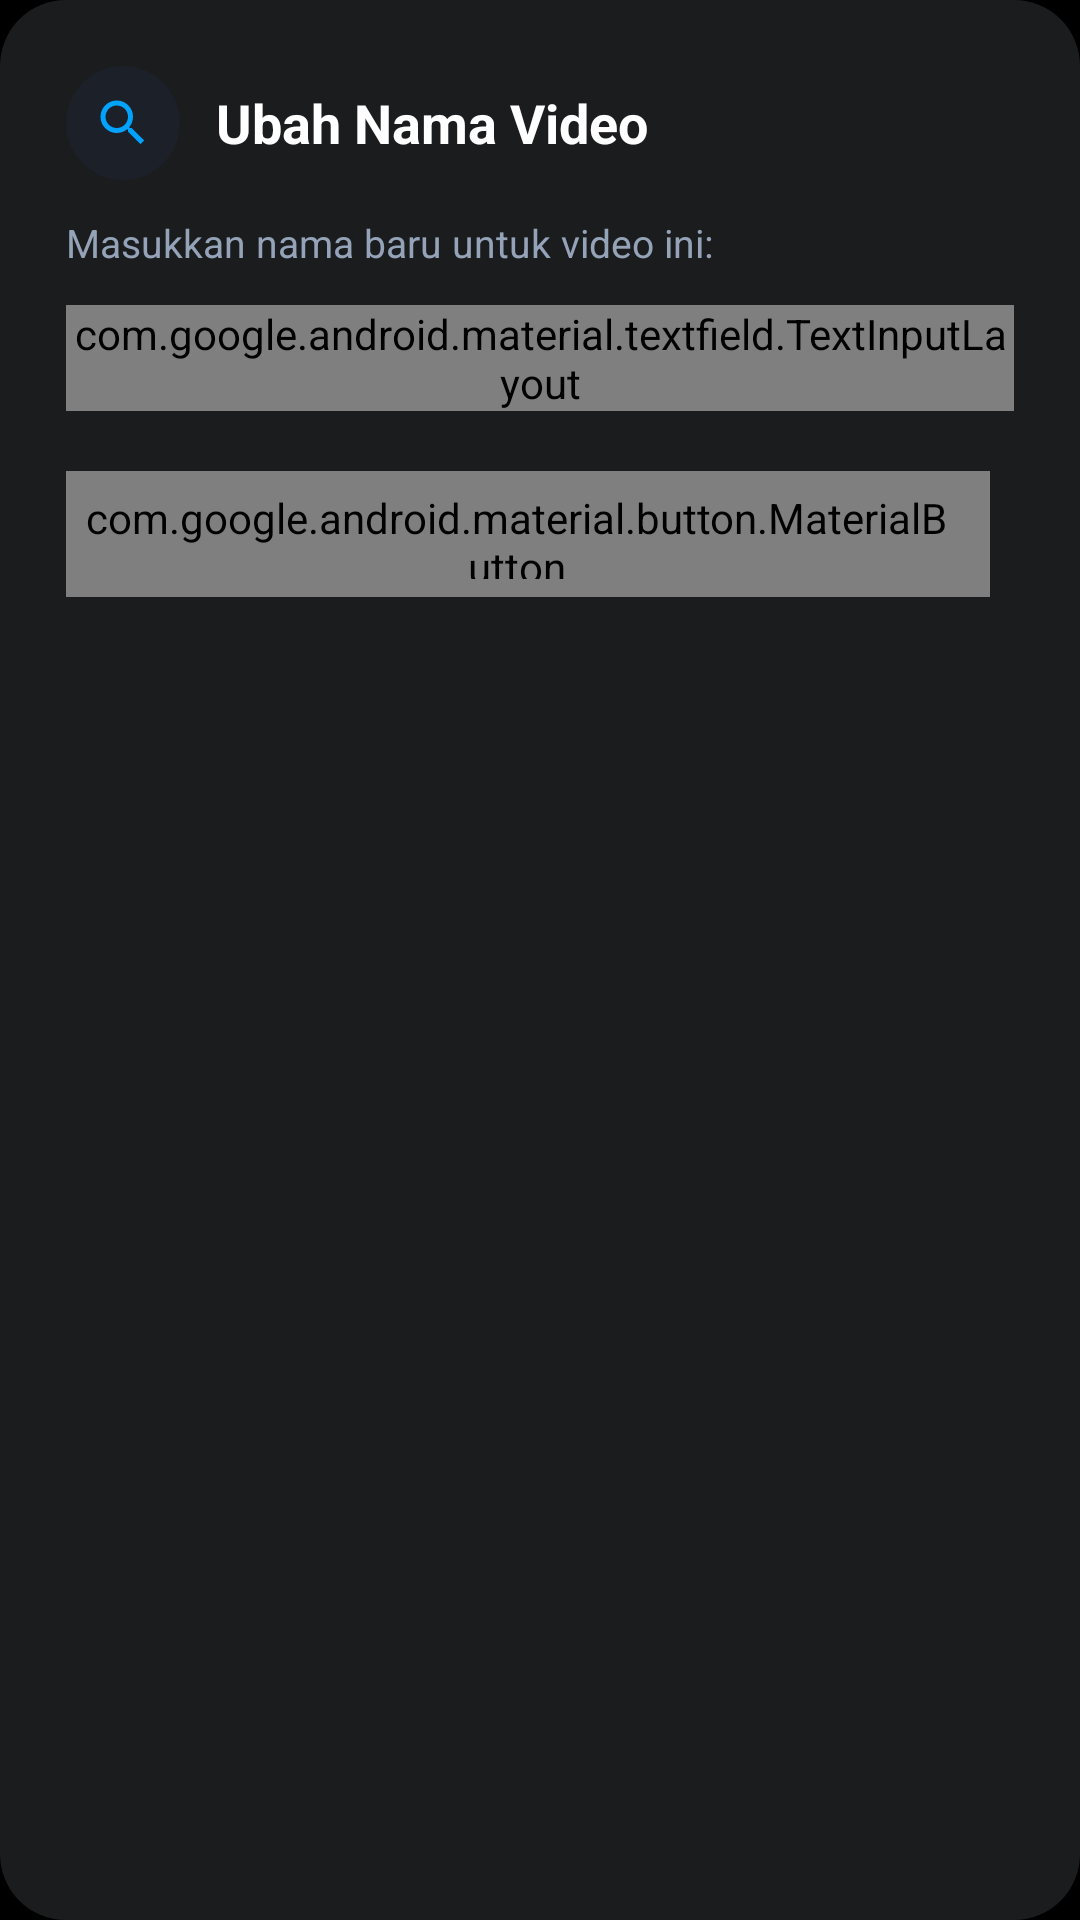

Where icons sit on this 1080 x 1920 app screen, as (x1, y1, x2, y2):
search: (100, 100, 144, 144)
